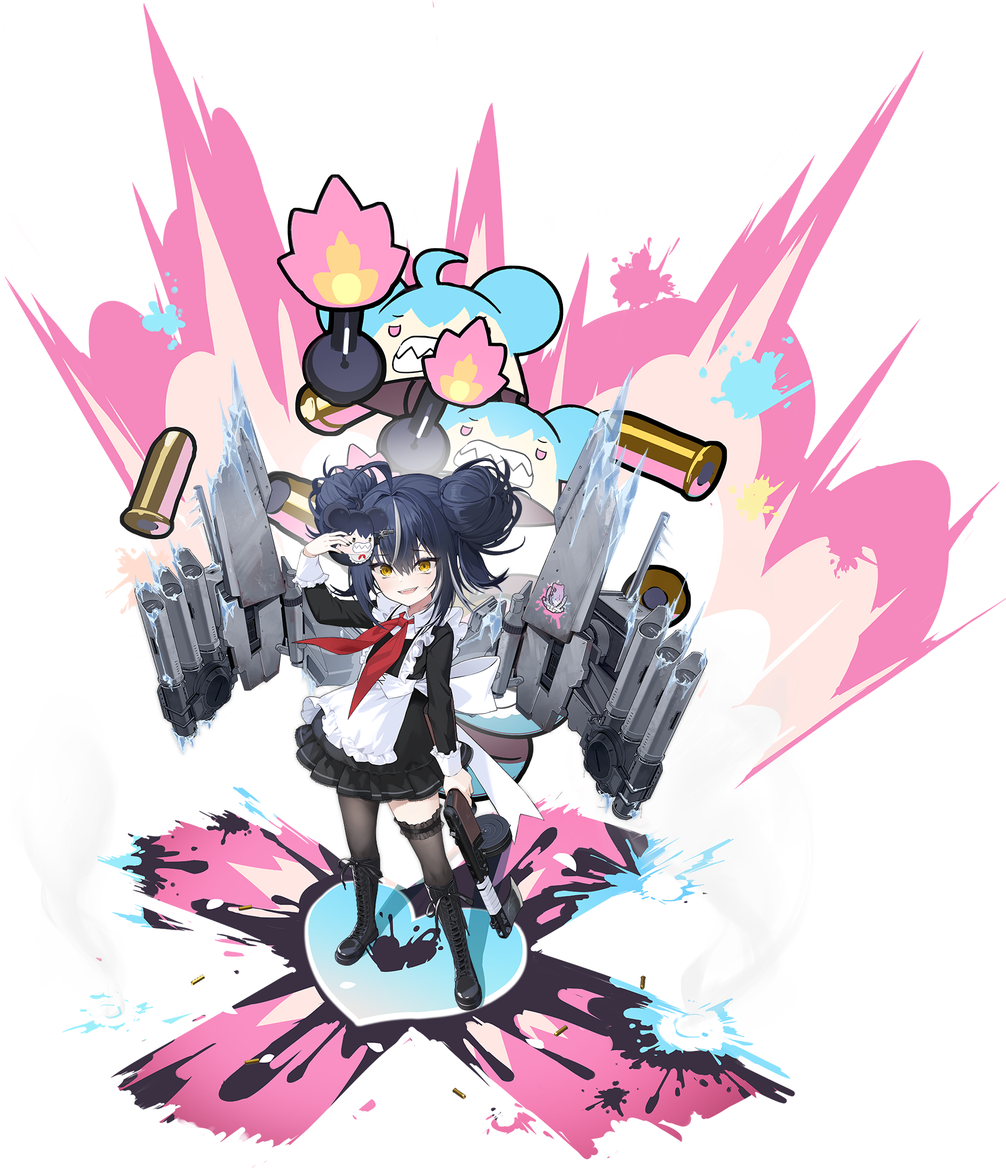person: (251, 440, 560, 1022)
